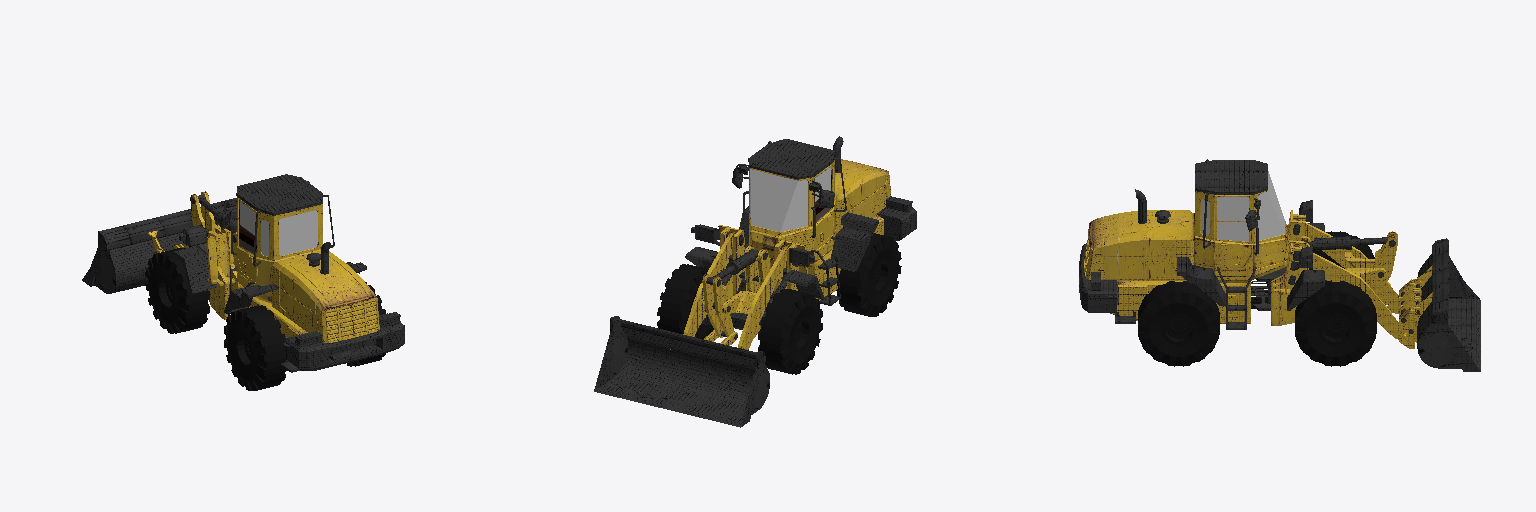
The picture shows the model from 3 angles: view 1: azimuth 30°, elevation 25°; view 2: azimuth 150°, elevation 25°; view 3: azimuth 270°, elevation 25°; orthographic projection.
Visible parts, largest first — view 1: BULLDOZER; view 2: BULLDOZER; view 3: BULLDOZER.
Part boxes in pixels (bbox=[...]): BULLDOZER: bbox=[82, 174, 404, 390]; BULLDOZER: bbox=[594, 136, 916, 427]; BULLDOZER: bbox=[1079, 159, 1480, 371].
Bounding box in the file's own units: 6.35 × 6.61 × 15.01.
5 materials, 4 textured.